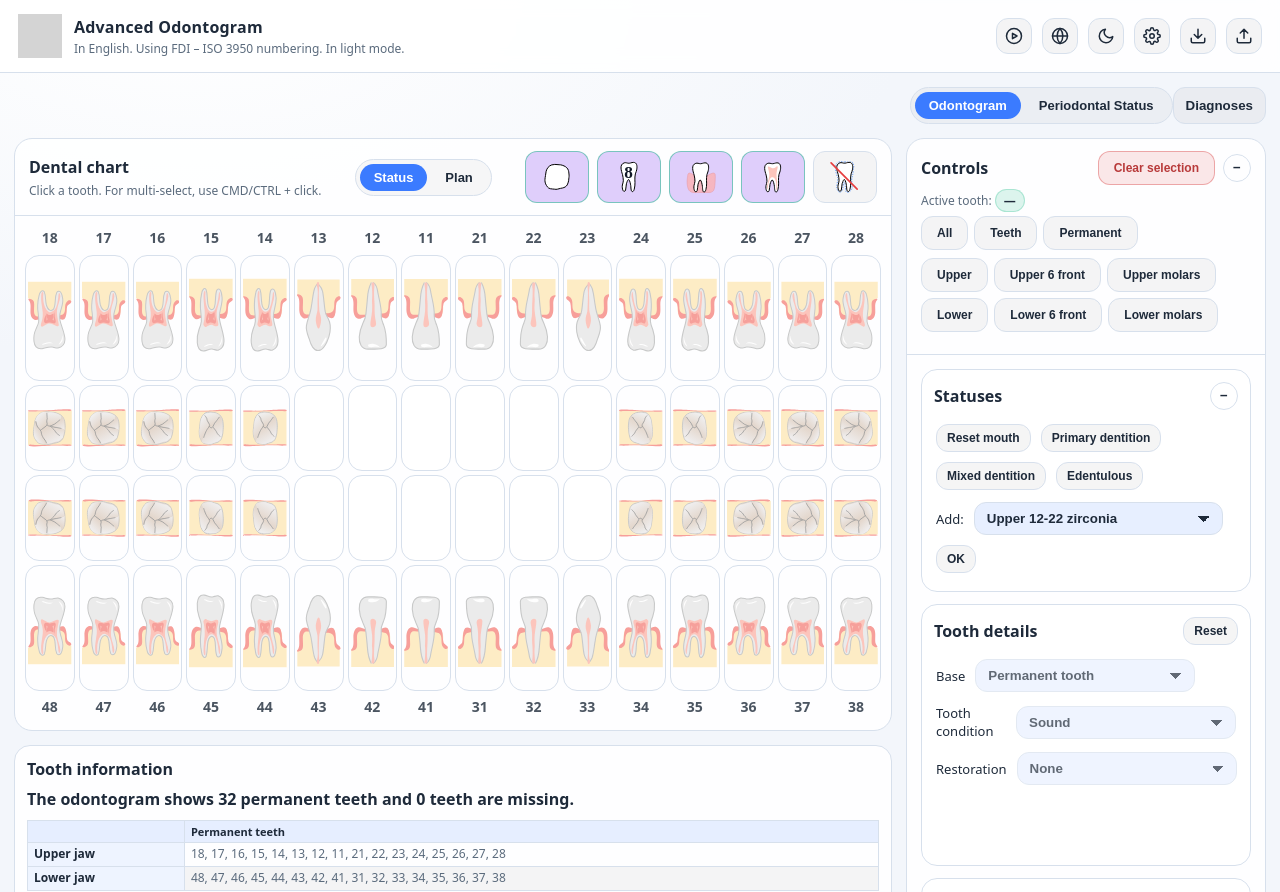
Test: note editor: save/delete notify onStateChange › saving a new note notifies once and lands in the payload
The image size is (1280, 892).
Step 1. Double-click the option named "11" → (426, 318), box top-left (401, 255), bottom-right (451, 381)
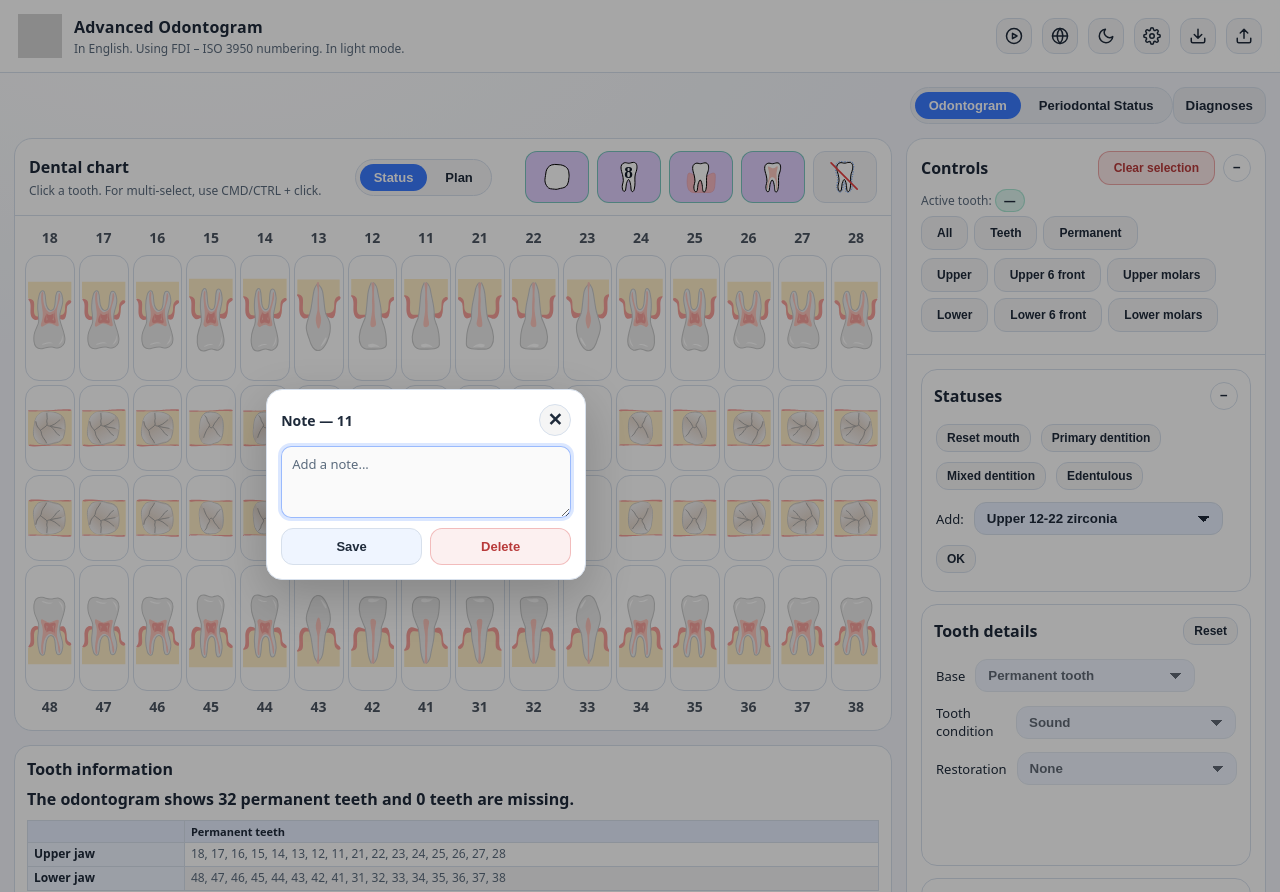
Expected: the element with class "odon-note-popover" is shown, top-left (266, 389), bottom-right (586, 580)
Step 2. Type "  sensitive to cold  " into the text box with placeholder "Add a note..." → (426, 482), box top-left (281, 446), bottom-right (571, 518)
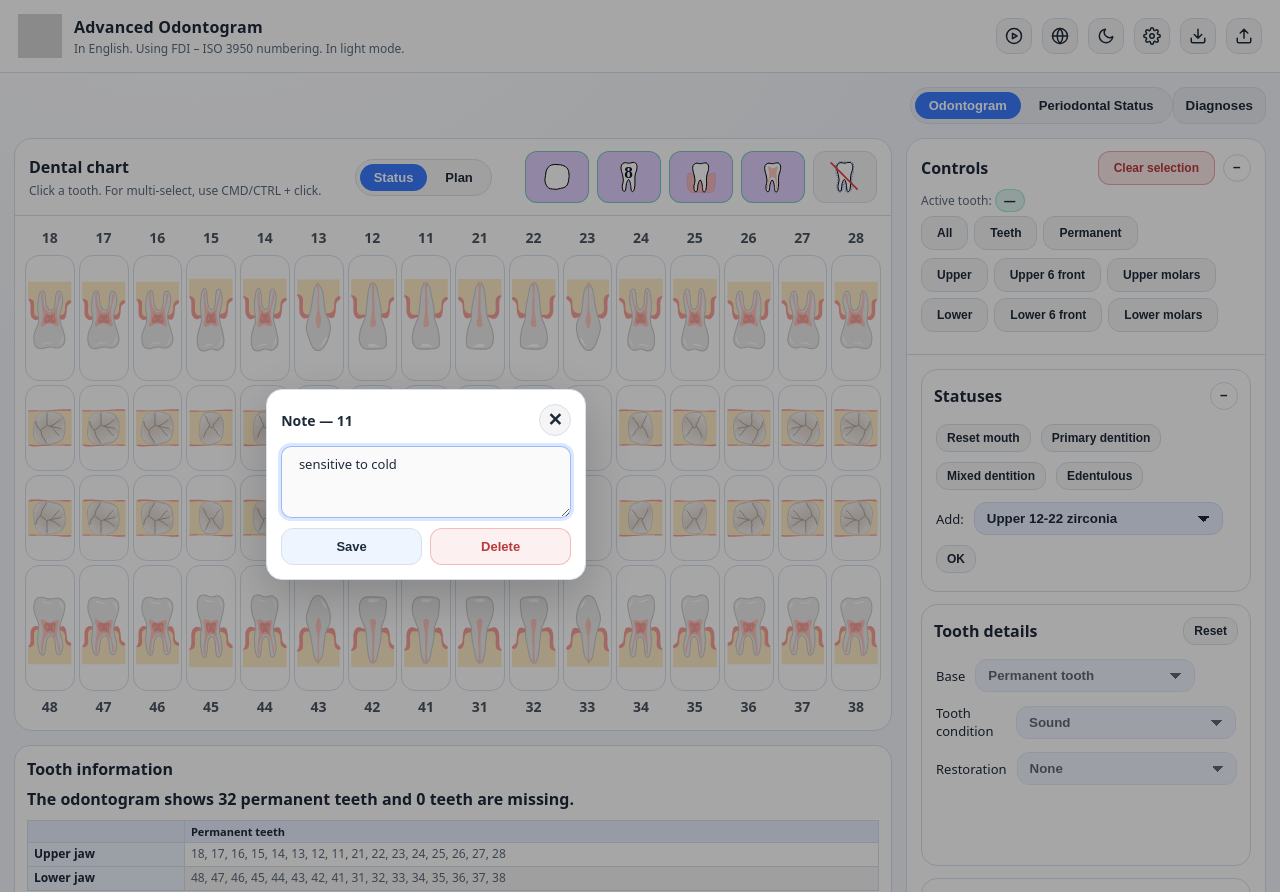
Step 3. Click the button "Save" → (352, 546), box top-left (281, 528), bottom-right (422, 565)
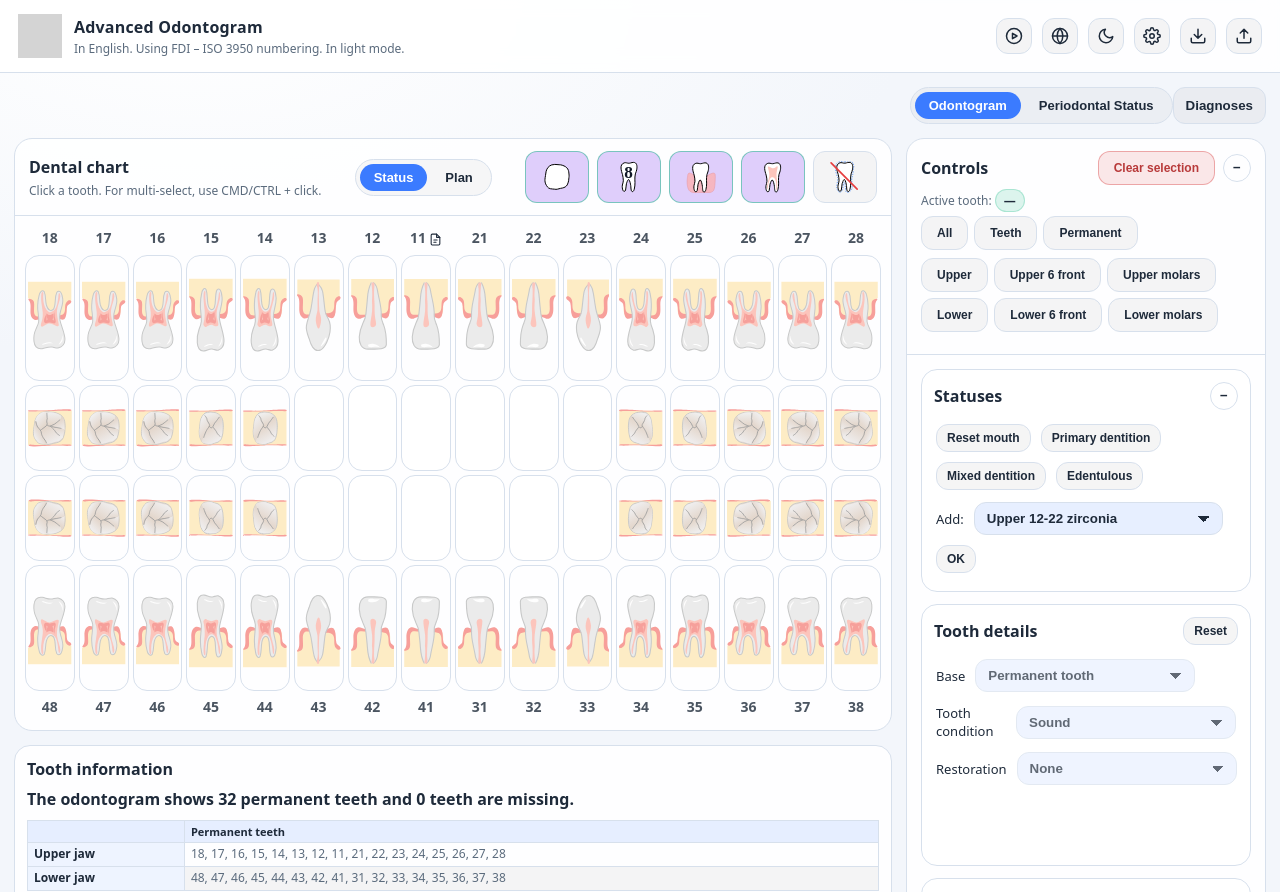
Expected: the element with class "odon-note-popover" is gone
